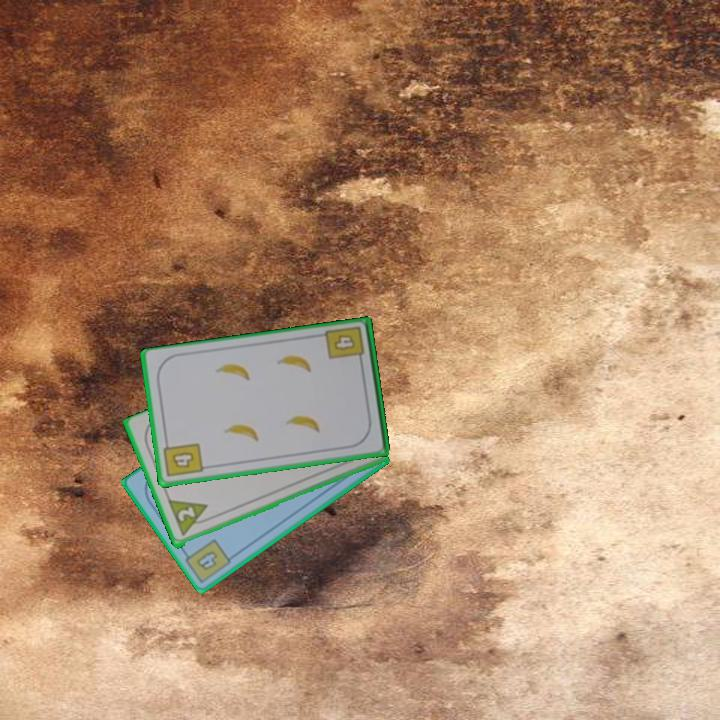2p: (165, 497, 215, 539)
4b: (179, 536, 234, 584), (322, 323, 367, 368), (160, 437, 206, 480)
